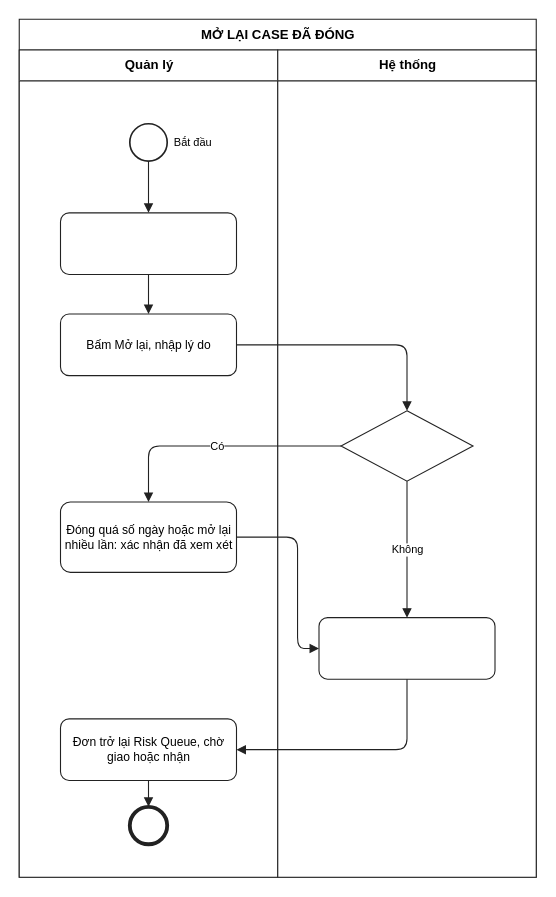
Some shapes in this 556 by 897 pixel diagram are drawn without their labels. The shapes that lost their labels are listed below. From the top down, each one's centre as x and y in pixels, then its label:
At point 148,243: "Mở đơn đã COMPLETED hoặc SKIPPED".
At point 406,445: "Cần xác nhận?".
At point 406,648: "Tạo chu kỳ mới, về PENDING, bỏ người phụ trách, tính lại SLA, ghi audit".
At point 148,825: "Kết thúc".
